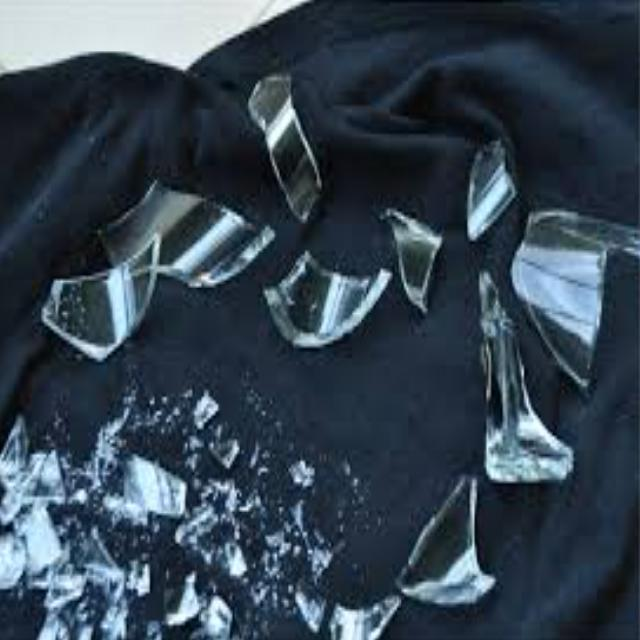PecahanKaca: (1, 2, 636, 636)
